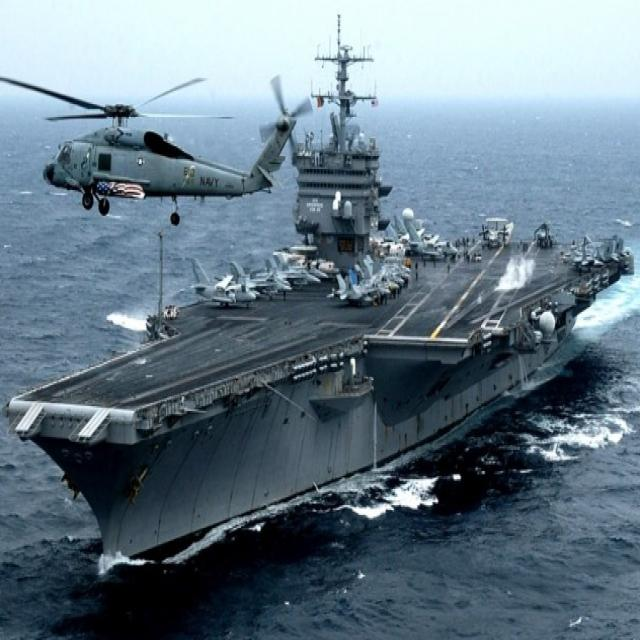navalvessels: (13, 45, 640, 572)
